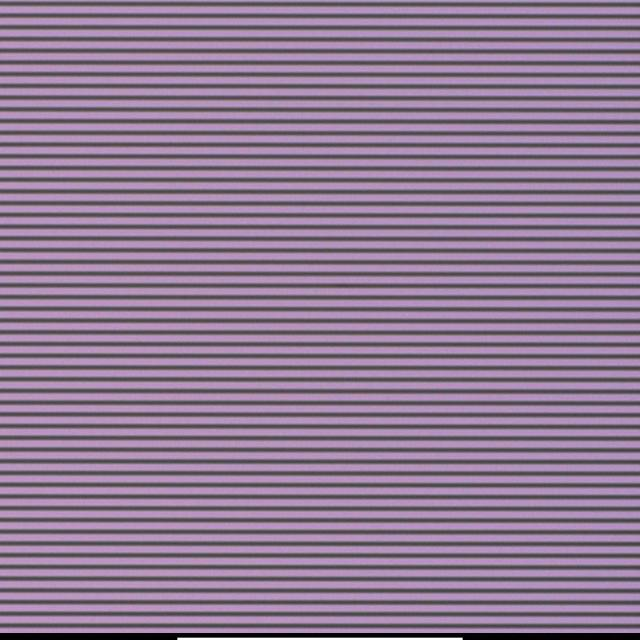03_intrusion: (307, 308, 317, 324)
